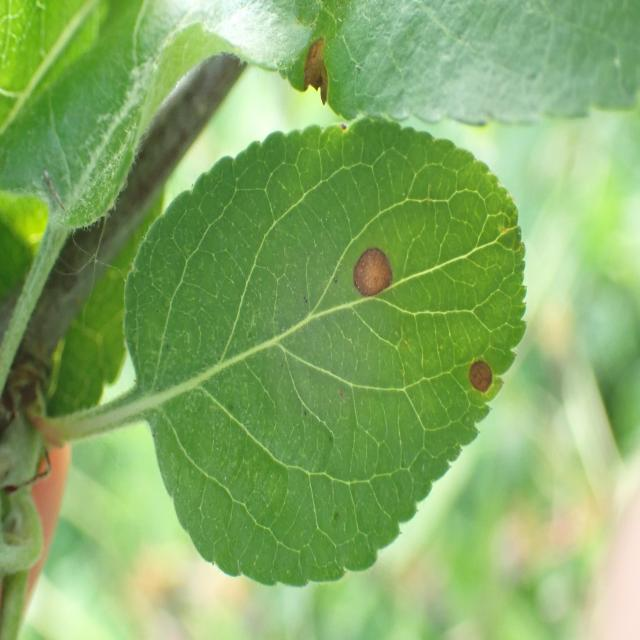Black Rot: (335, 242, 403, 313), (288, 30, 342, 110), (466, 334, 498, 410)
